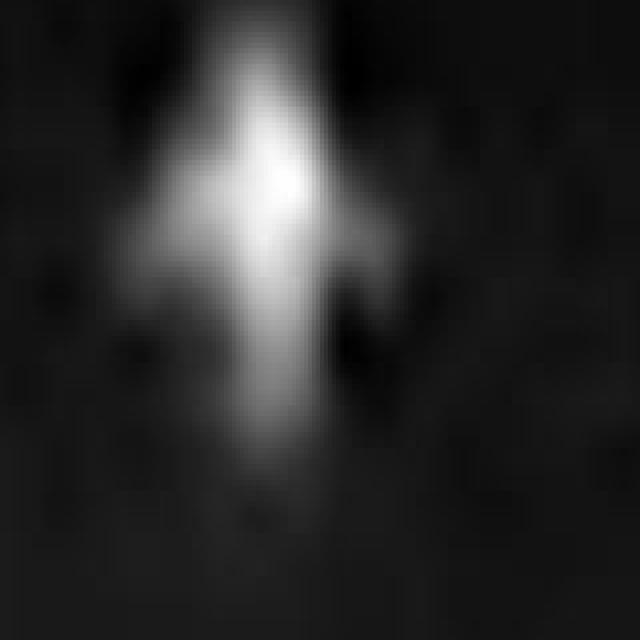person: (125, 1, 393, 492)
